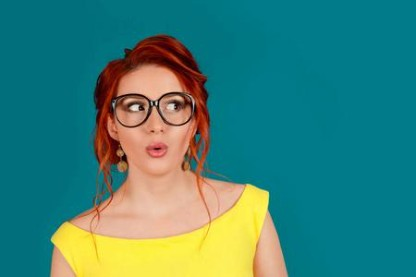张嘴: (144, 135, 171, 164)
